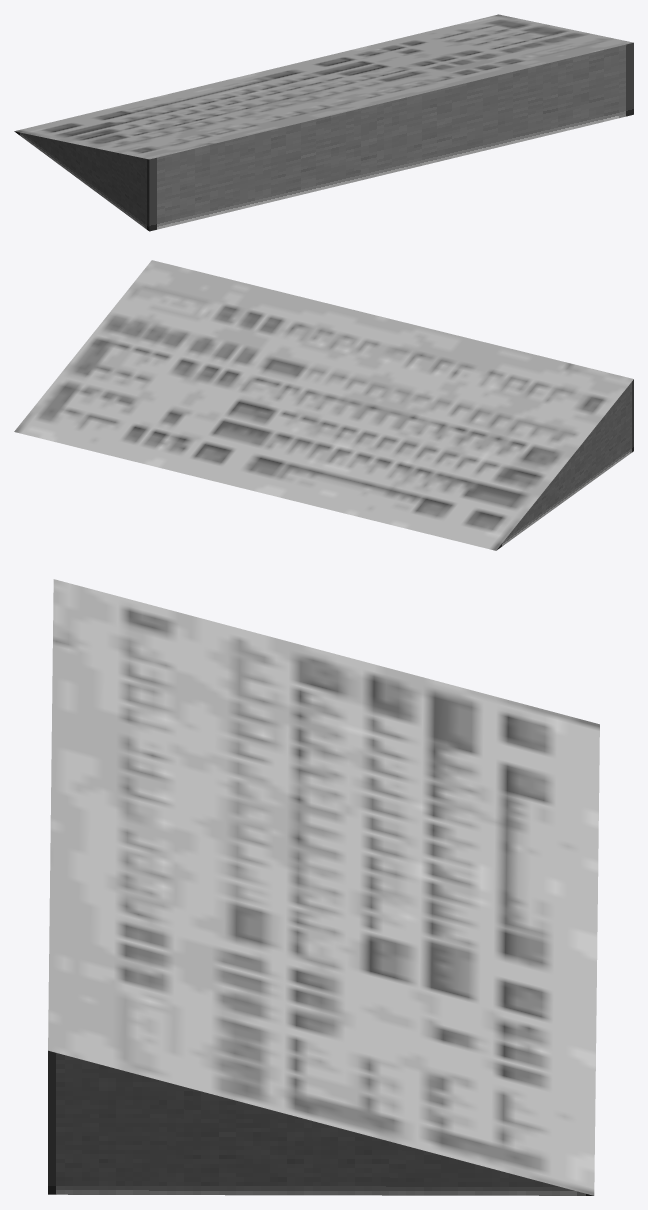
Rendered from primary_080.glb.
The picture shows the model from 3 angles, top to bottom: view 1: azimuth 30°, elevation 25°; view 2: azimuth 150°, elevation 25°; view 3: azimuth 270°, elevation 25°; orthographic projection. The views are drawn at different scales.
Parts seen in each view (by area): view 1: Object; view 2: Object; view 3: Object.
Part boxes in pixels (x1,y1,x2,y2): Object: (14, 14, 633, 231); Object: (14, 260, 633, 550); Object: (48, 579, 599, 1195).
Size of the model in its own units: 0.7974 by 0.1134 by 0.3935.
4 materials, 4 textured.
